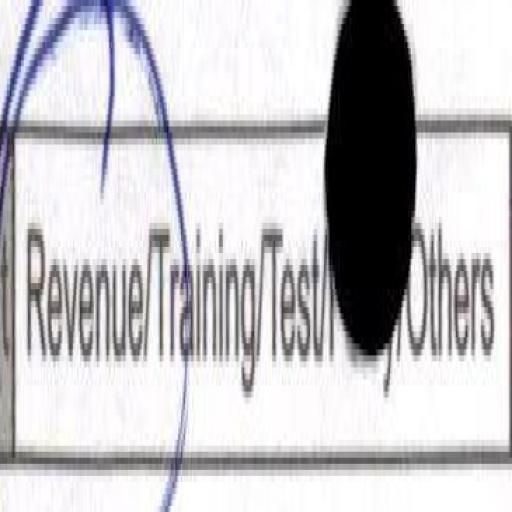check: (0, 6, 150, 512)
